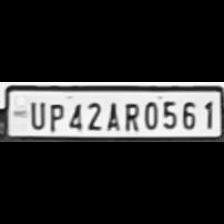0: (141, 98, 158, 130)
1: (200, 98, 216, 130)
2: (84, 99, 103, 131)
4: (64, 99, 84, 130)
5: (160, 97, 178, 130)
6: (178, 98, 196, 130)
A: (102, 99, 120, 131)
P: (44, 99, 64, 130)
R: (120, 99, 140, 131)
U: (26, 98, 46, 130)
